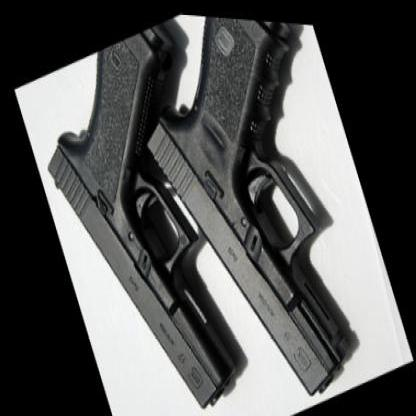pistol: (112, 7, 399, 412), (18, 7, 275, 412)
